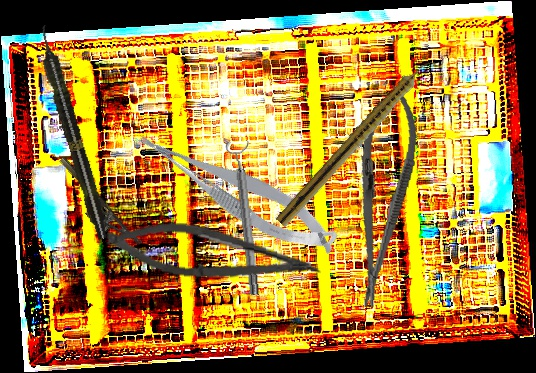Fixation Ring: (224, 139, 267, 297)
Handpiece: (274, 52, 439, 231), (32, 22, 113, 242)
Micro Scissor: (130, 106, 346, 274), (104, 216, 324, 289)
Needle Holder: (339, 82, 426, 311), (47, 155, 143, 259)
